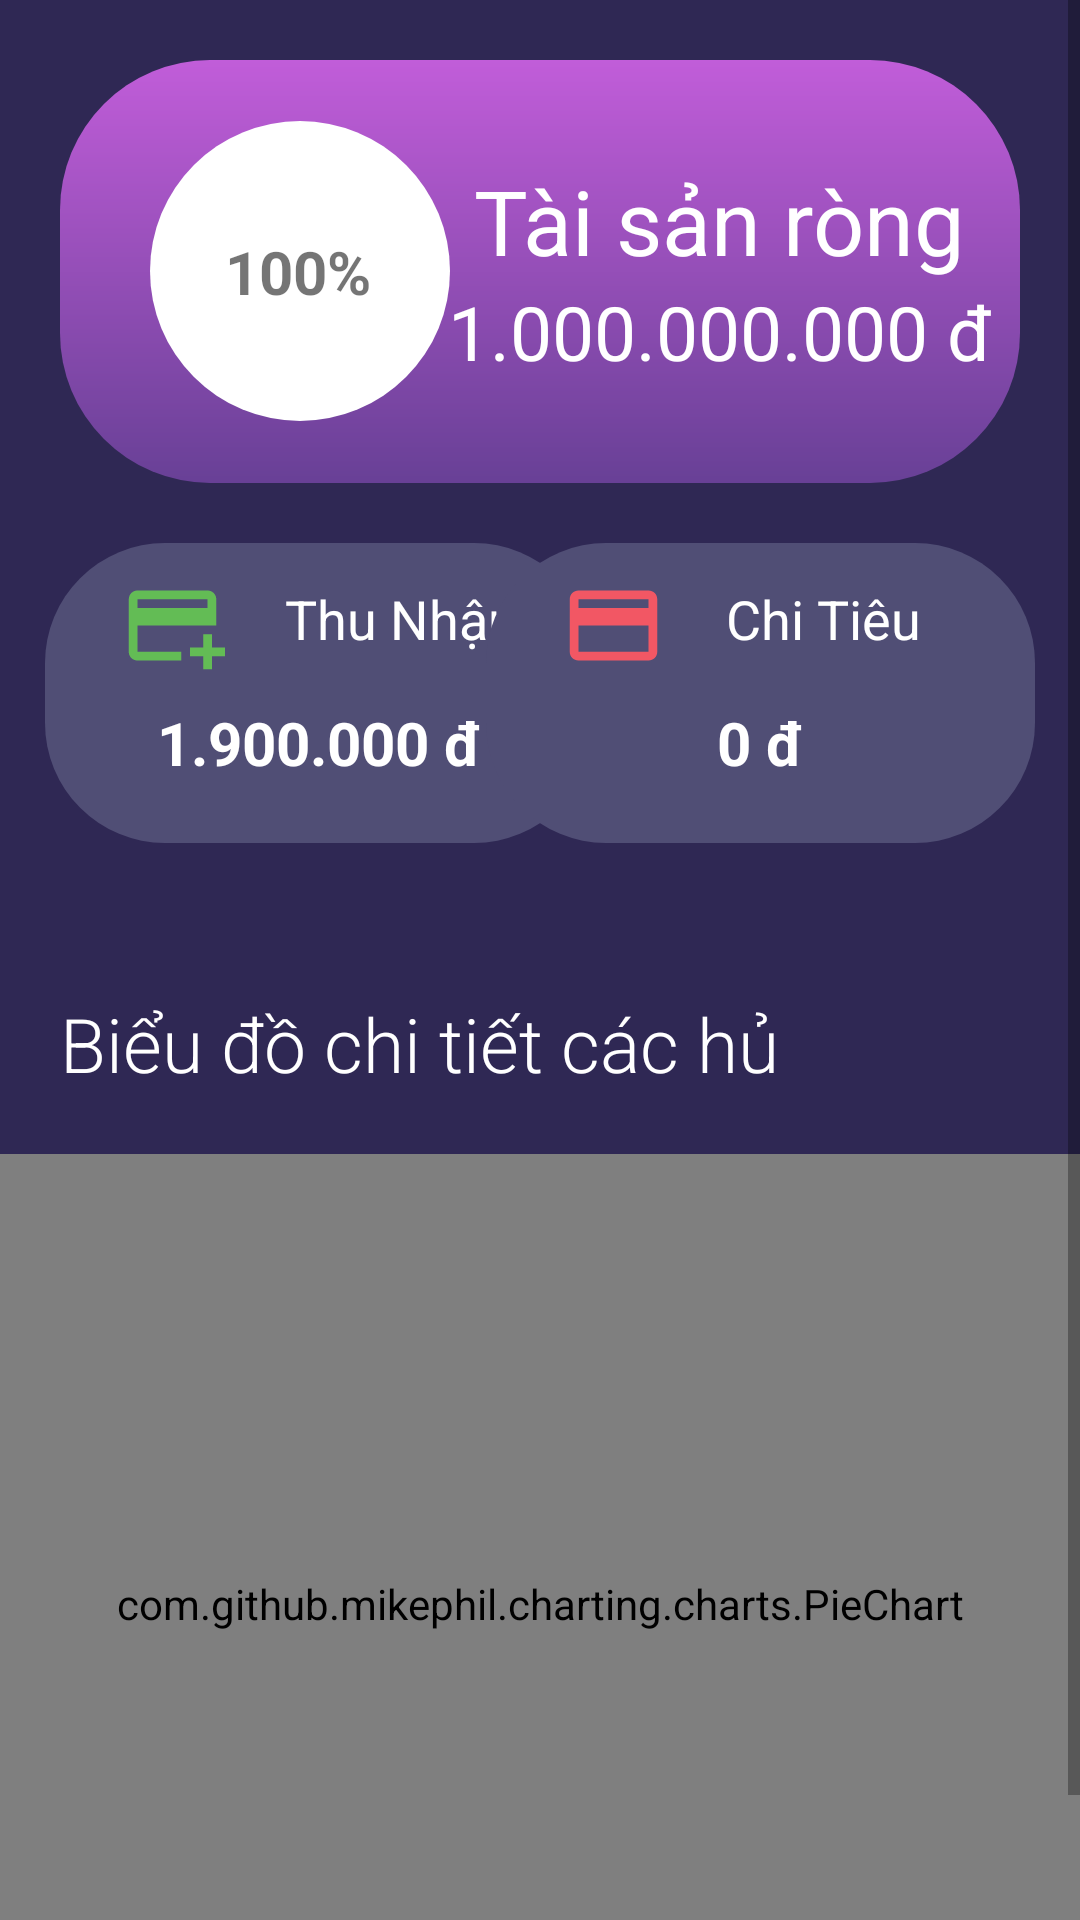

Named icons in this screenshot (1080*1920) and their centers, [x,y]:
add card: [176,630]
